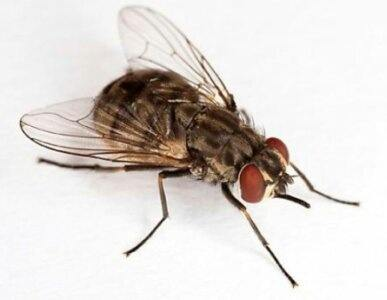fly: (16, 2, 364, 292)
